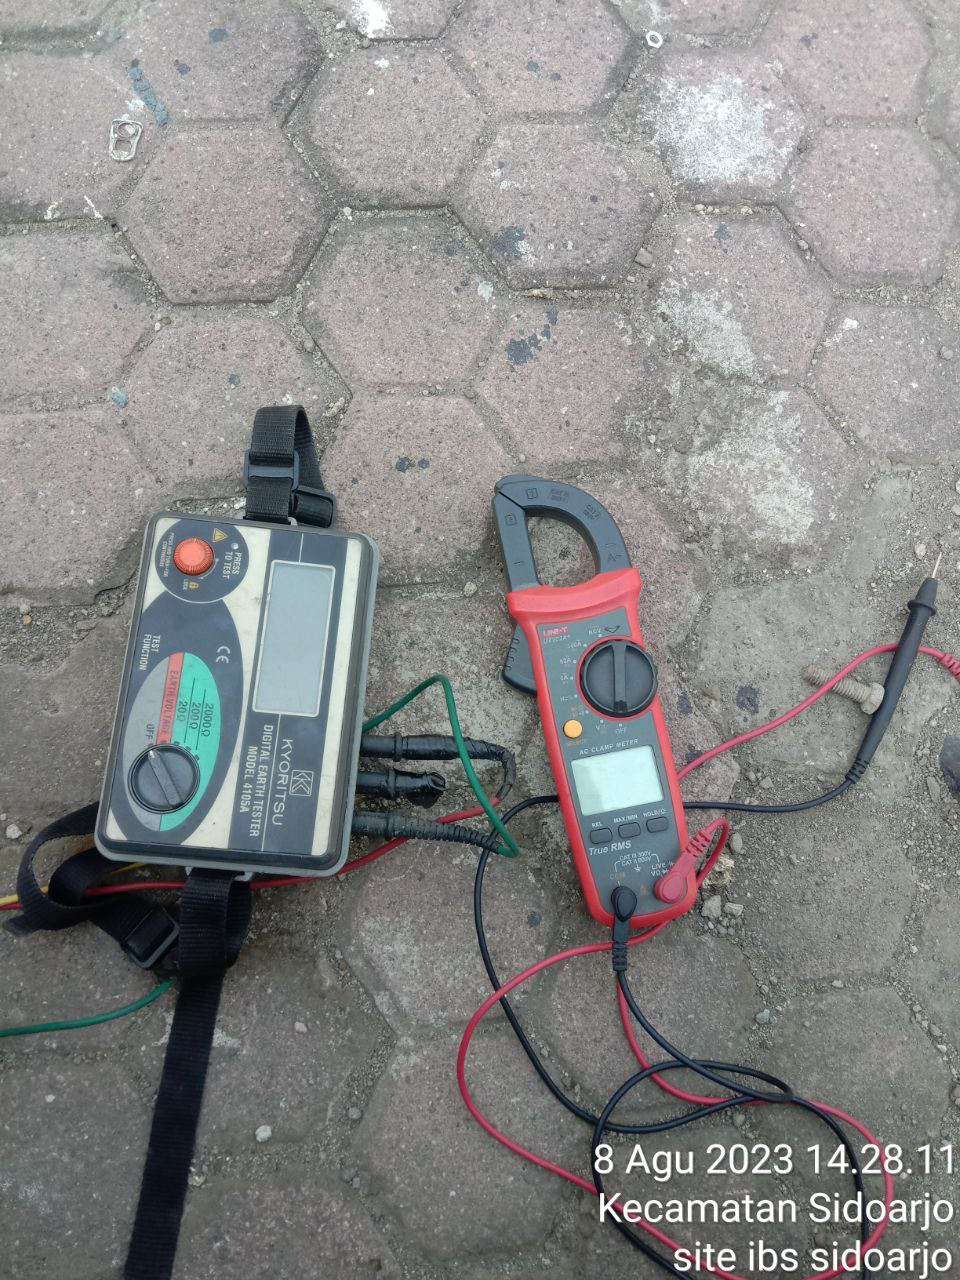EARTH_GROUNDING_TESTER: (90, 506, 377, 882)
TANG_AMPERE: (490, 466, 708, 923)
